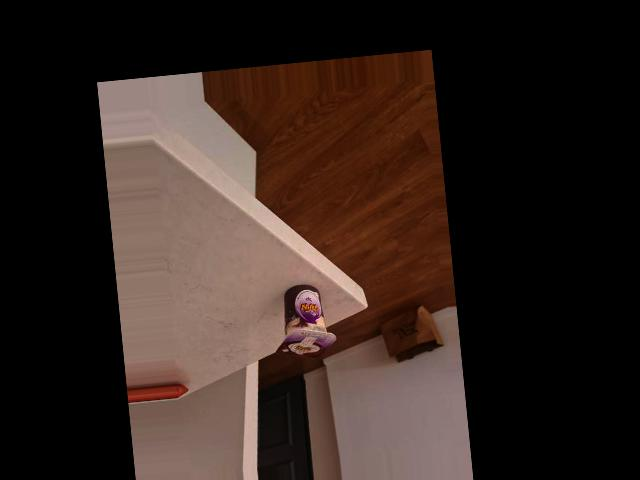milky: (272, 282, 341, 361)
